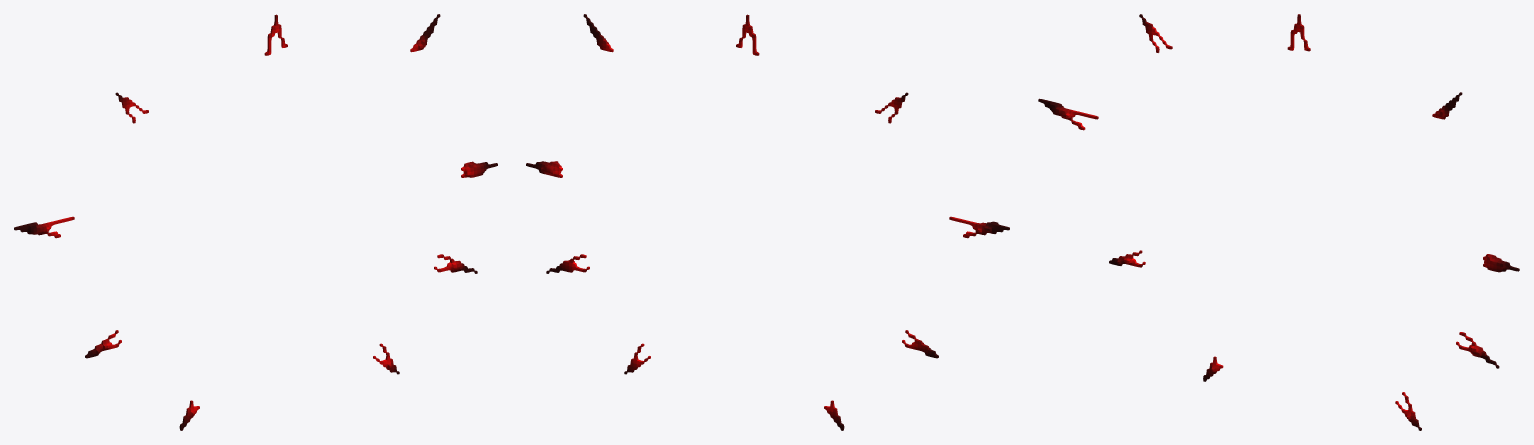
The model's file is Fight_740_2_20.obj.
The picture shows the model from 3 angles, left to right: view 1: azimuth 30°, elevation 25°; view 2: azimuth 150°, elevation 25°; view 3: azimuth 330°, elevation 25°; orthographic projection.
Size of the model in its own units: 14.26 by 11.06 by 0.3.
Materials: 1 (1 with a texture image).
